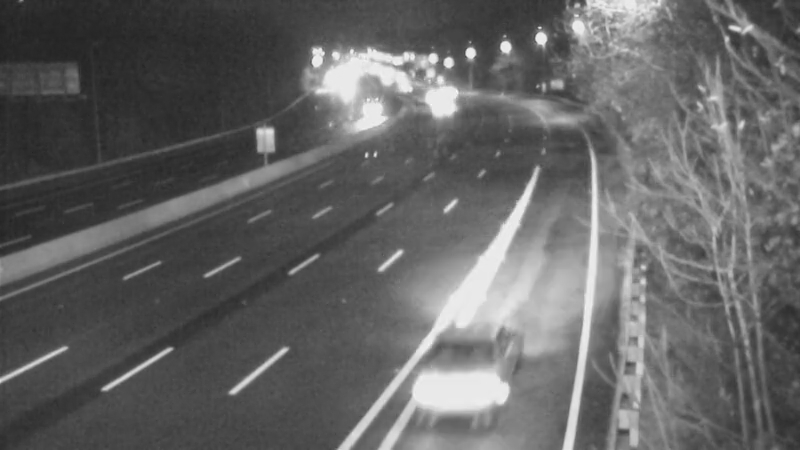vehicle: (403, 332, 513, 442), (412, 75, 462, 125), (417, 83, 467, 133), (350, 88, 400, 138)
